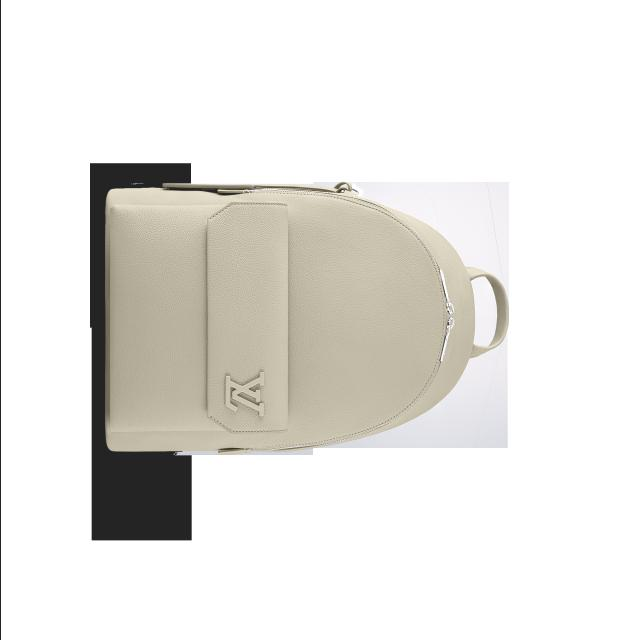backpack: (104, 183, 510, 457)
